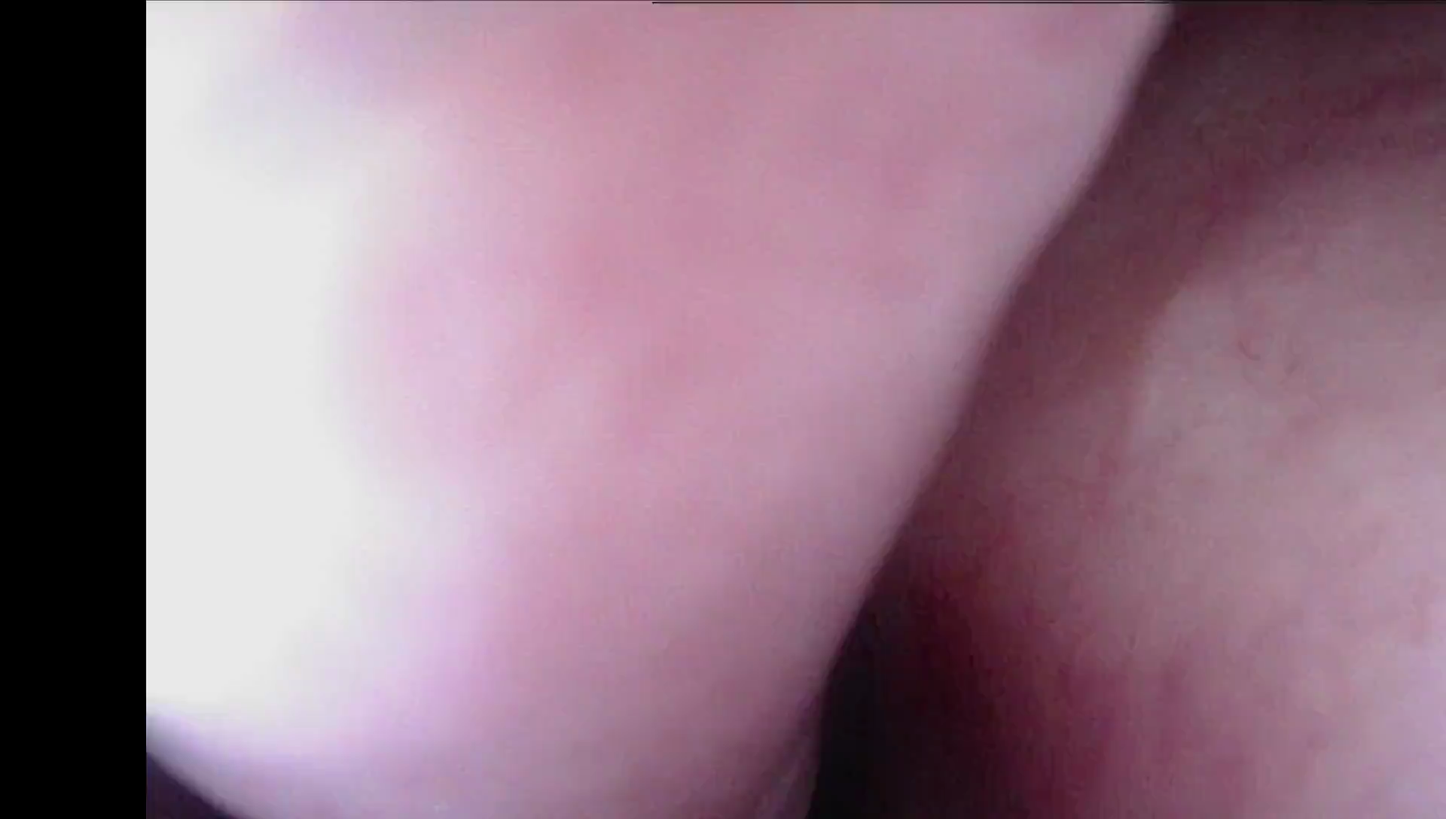close_wall: (148, 13, 715, 747)
next: (749, 495, 1069, 819)
